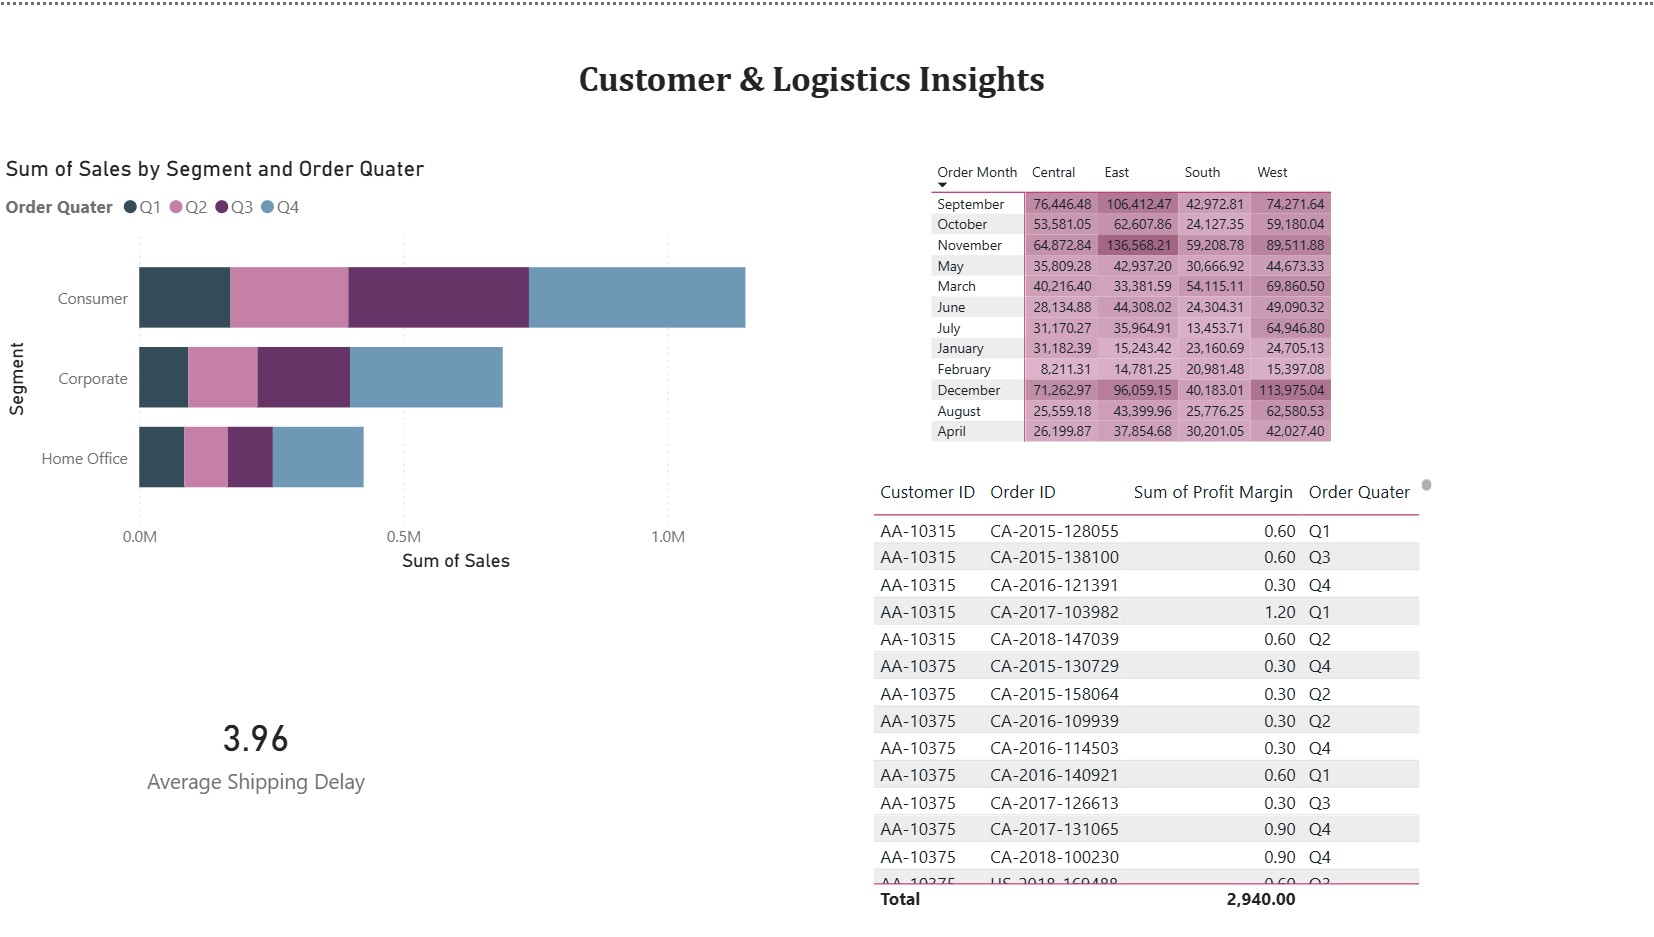

Layout of this report page (visuals, bound fields, positions):
{"tool":"powerbi","page":{"name":"Customer & Logistics Insights","canvas":[1280,720],"ordinal":2},"visuals":[{"type":"barChart","fields":{"Category":["train.Segment"],"Y":["Sum(train.Sales)"],"Series":["train.Order Quater"]},"box":[0,164.5,616.4,325.6],"z":0},{"type":"textbox","box":[442.6,35.9,483.2,44],"z":1000},{"type":"tableEx","fields":{"Values":["train.Customer ID","train.Order ID","Sum(train.Profit Margin)","train.Order Quater"]},"box":[669.7,360.4,442.6,344.1],"z":2000},{"type":"kpi","fields":{"TrendLine":["train.Product ID"],"Indicator":["Sum(train.Sales)"]},"box":[1004.6,157.6,241,149.5],"z":2001},{"type":"pivotTable","fields":{"Rows":["train.Order Month"],"Columns":["train.Region"],"Values":["train.Total Sales"]},"box":[56.8,490.1,332.6,229.4],"z":2002},{"type":"card","fields":{"Values":["train.Average Shipping Delay"]},"box":[684.8,173.8,245.7,133.3],"z":2003}]}

Visuals, with their boxes in screenshot pixels (x1, y1, x2, y2), scaled from the page's 1280x720 canvas onto the 1654x937 screenshot:
barChart - train.Segment x Sum(train.Sales): bbox(0, 214, 797, 638)
textbox: bbox(572, 47, 1196, 104)
tableEx - train.Customer ID x train.Order ID: bbox(865, 469, 1437, 917)
kpi - train.Product ID x Sum(train.Sales): bbox(1298, 205, 1610, 400)
pivotTable - train.Order Month x train.Region: bbox(73, 638, 503, 936)
card - train.Average Shipping Delay: bbox(885, 226, 1202, 400)
